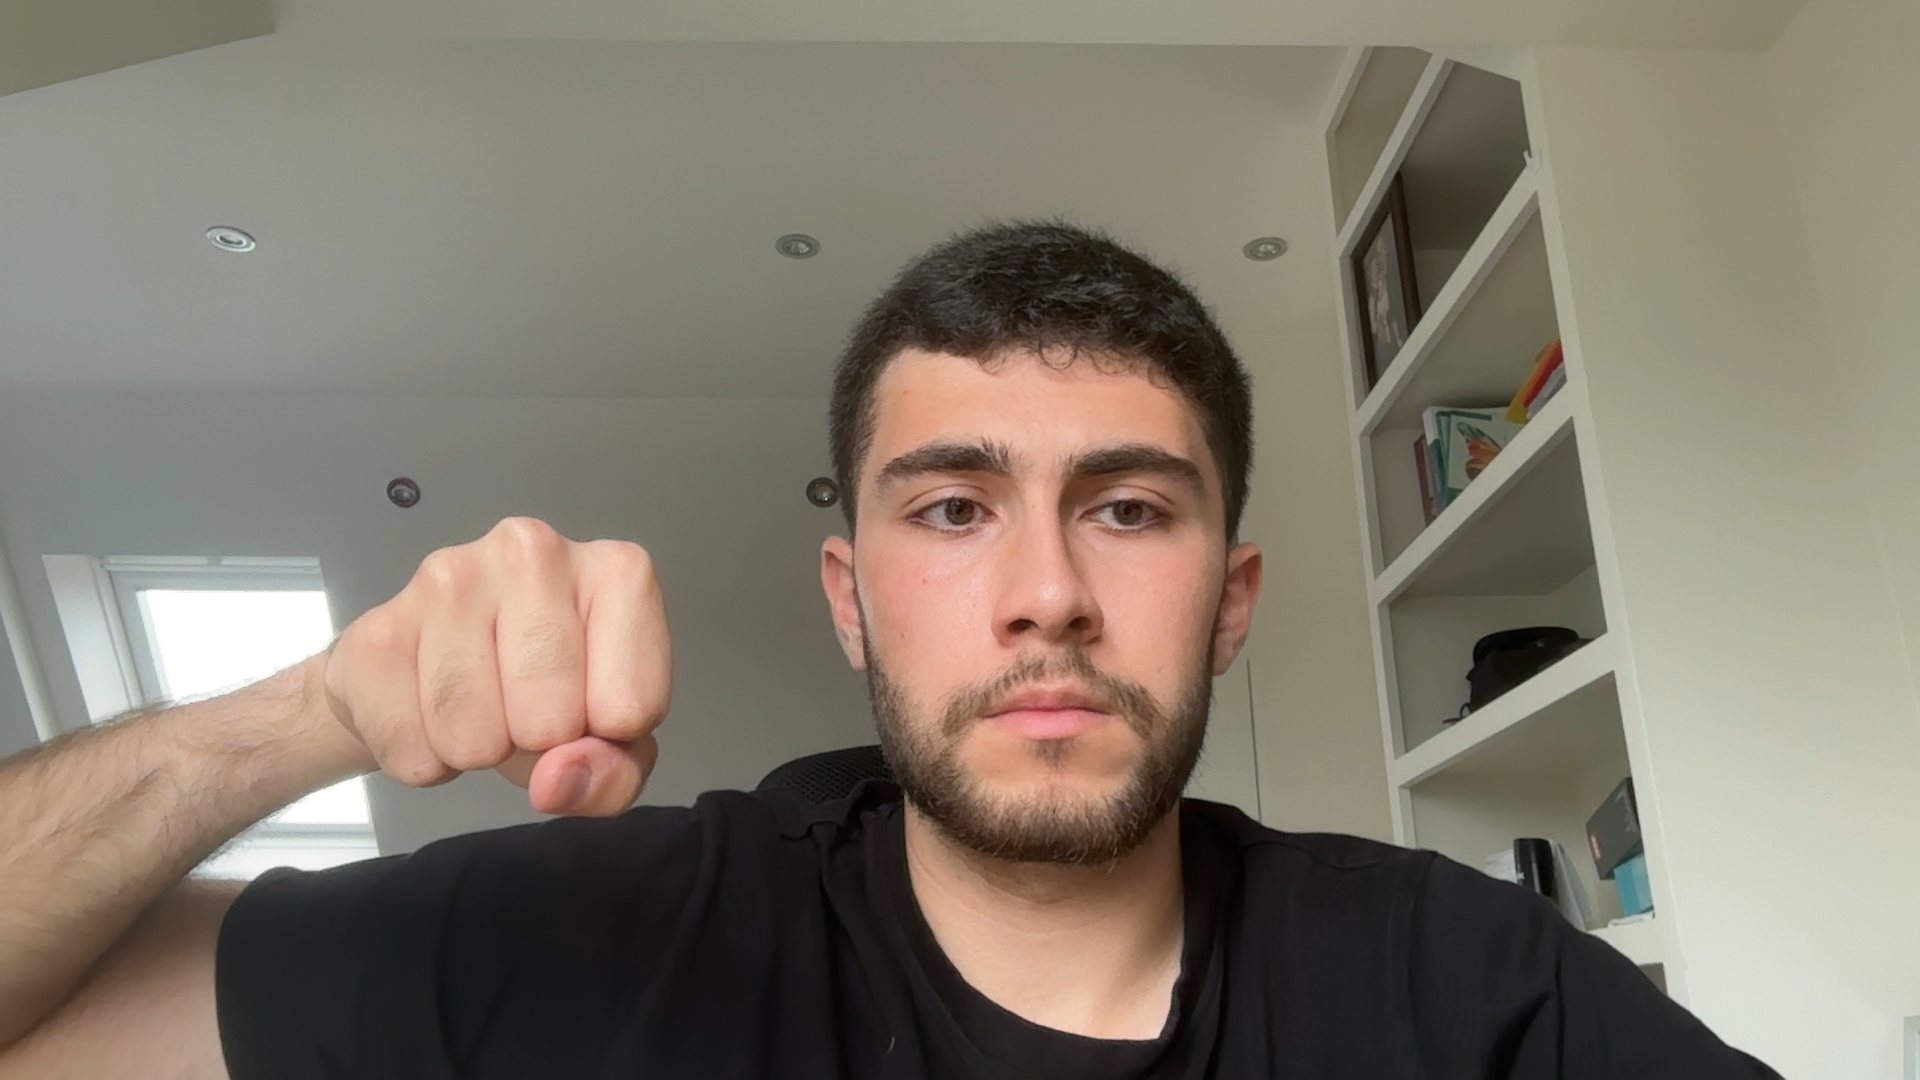yes: (284, 487, 723, 833)
